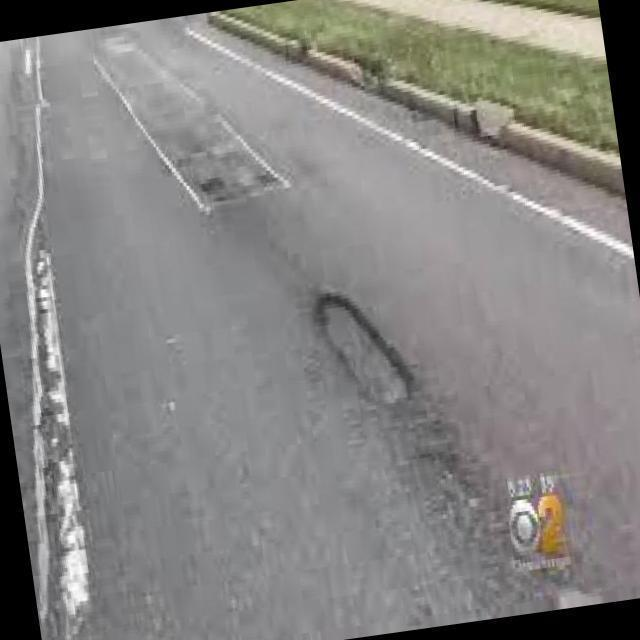pothole: (305, 294, 416, 411)
